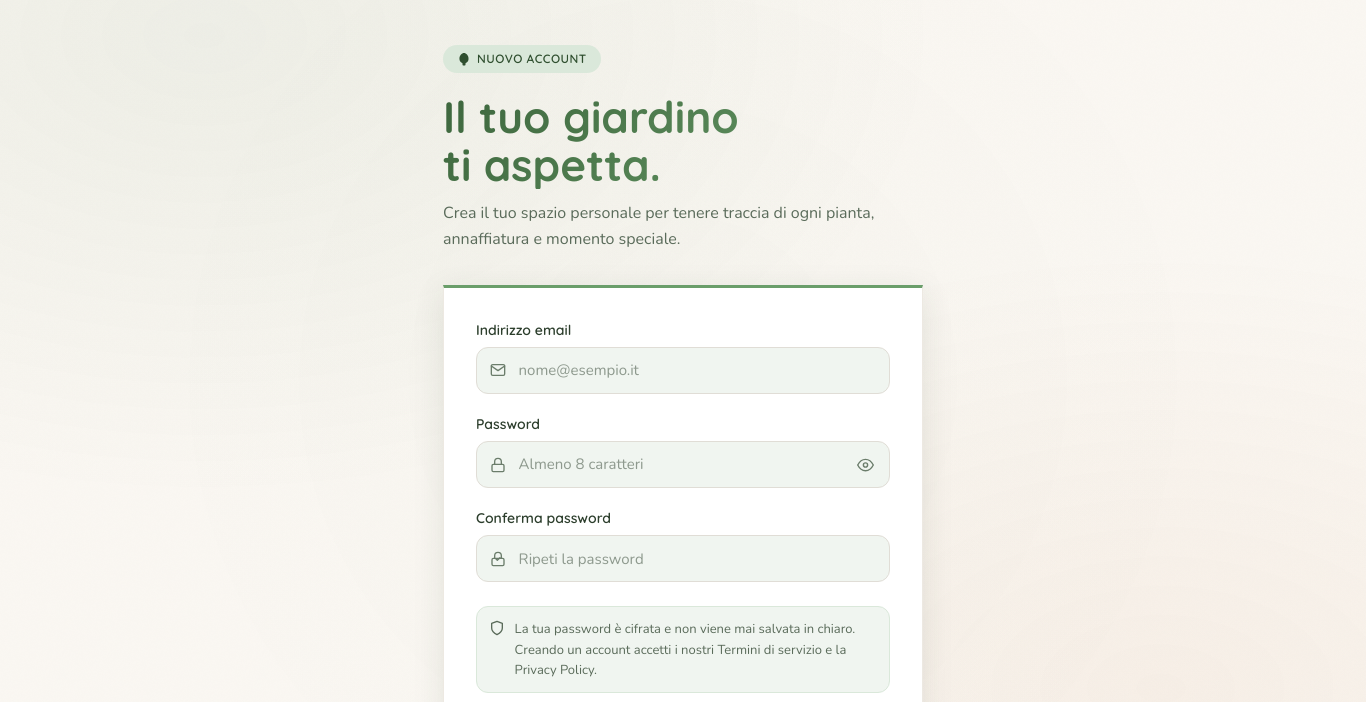
PaginaRegistrazione › submit con dati validi › l'overlay di successo ha role='alert' per i lettori di schermo
The image size is (1366, 702).
Type "giulia@esempio.it" into the field labelled "Indirizzo email" at coordinates (683, 370), box [476, 347, 890, 394]
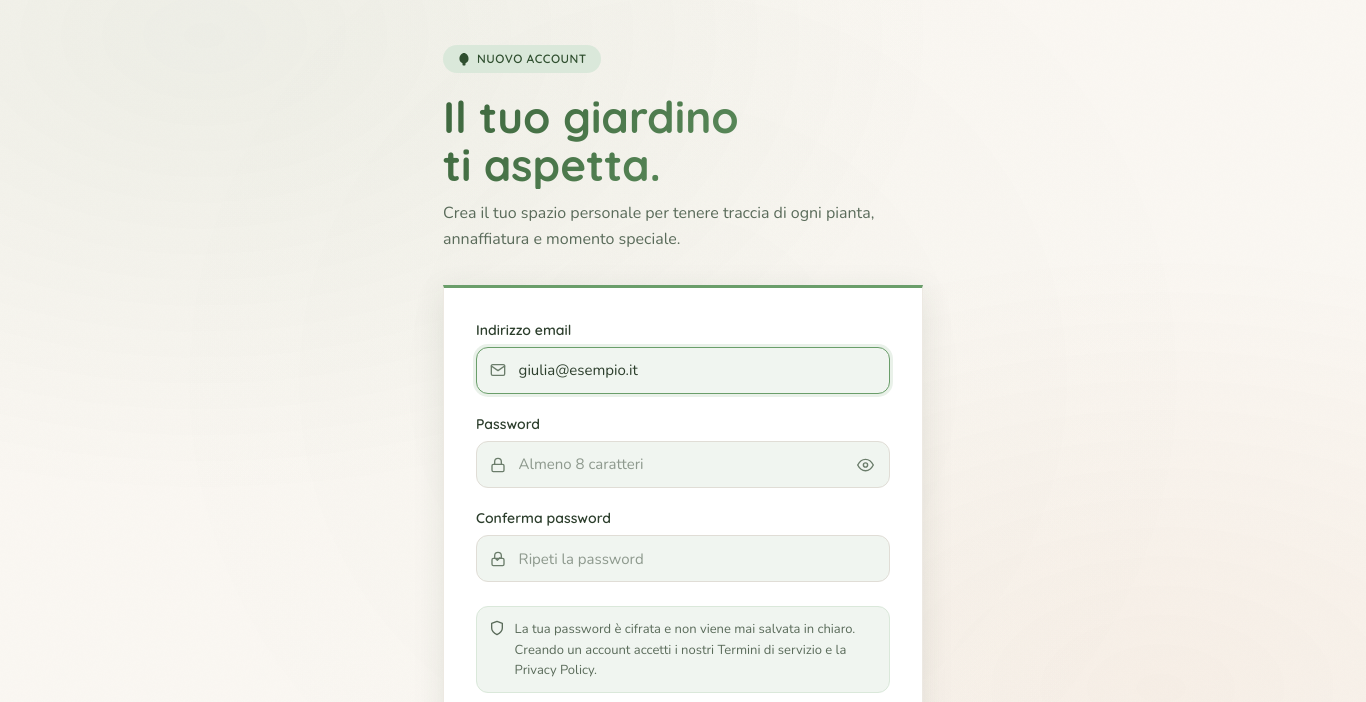
Type "SecurePass8" into the password field labelled "Password" at coordinates (683, 465), box [476, 441, 890, 488]
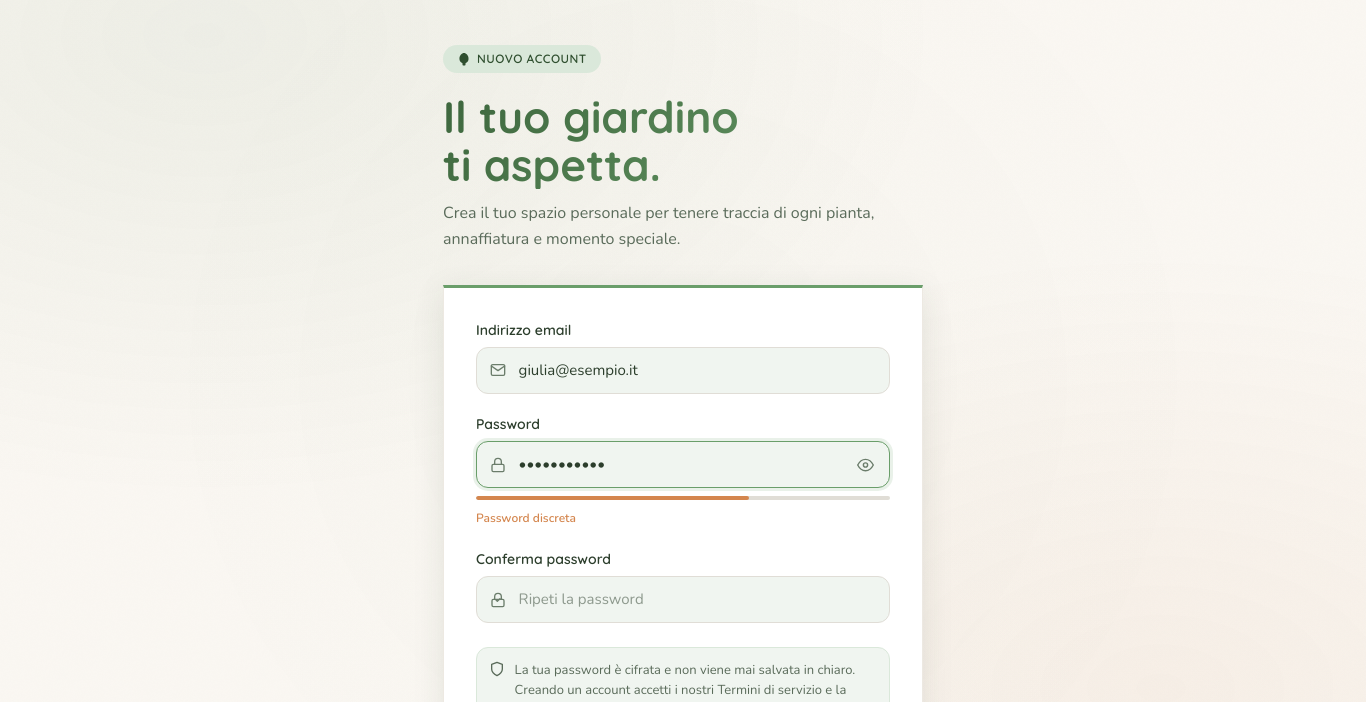
Type "SecurePass8" into the password field labelled "Conferma password" at coordinates (683, 600), box [476, 576, 890, 623]
(page scrolled)
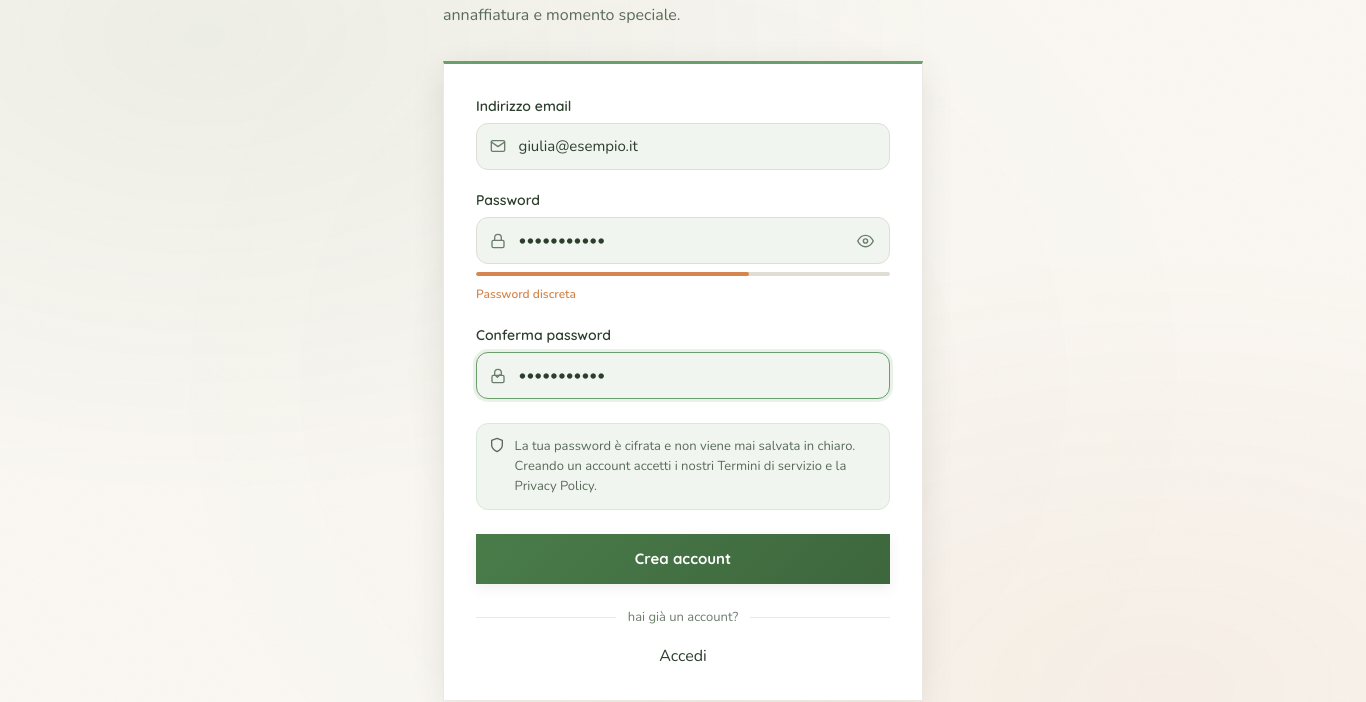
Click the button "Crea account" at coordinates (683, 559), box [476, 534, 890, 584]
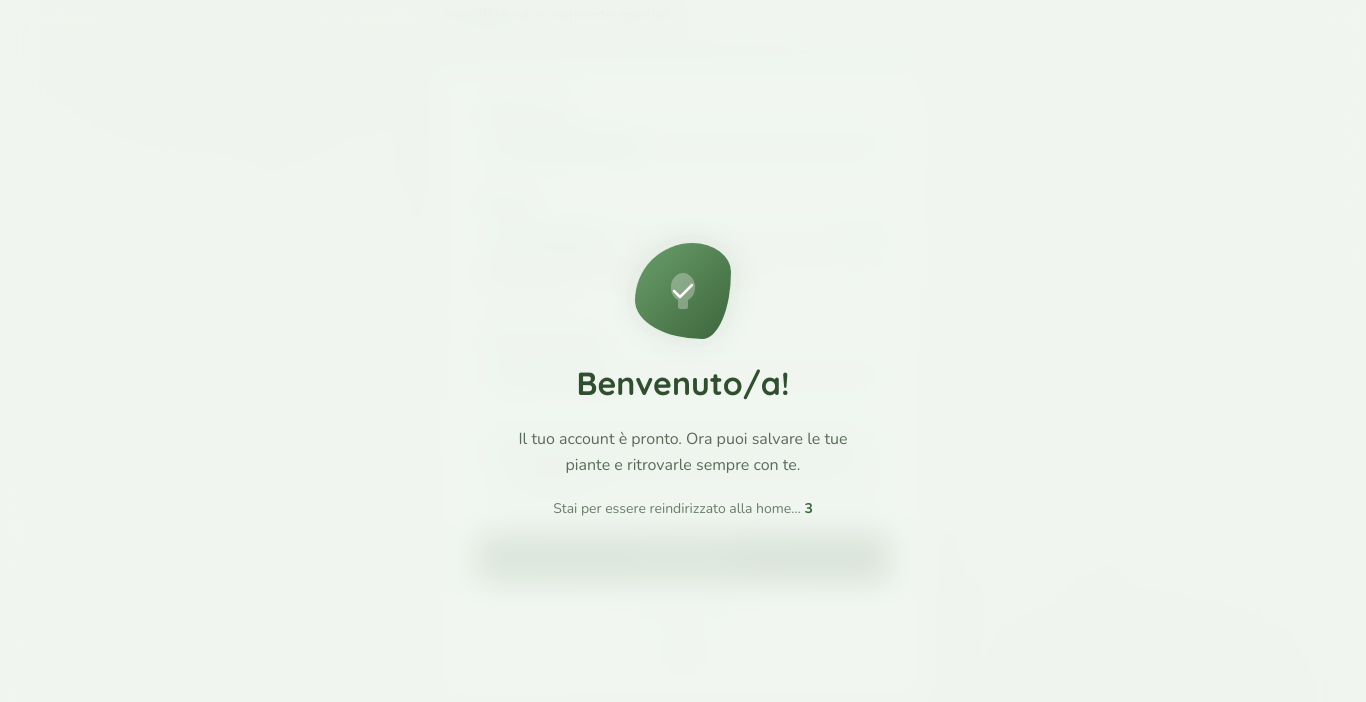
Expected: the heading "Benvenuto/a!" is shown, [576, 359, 790, 407]
